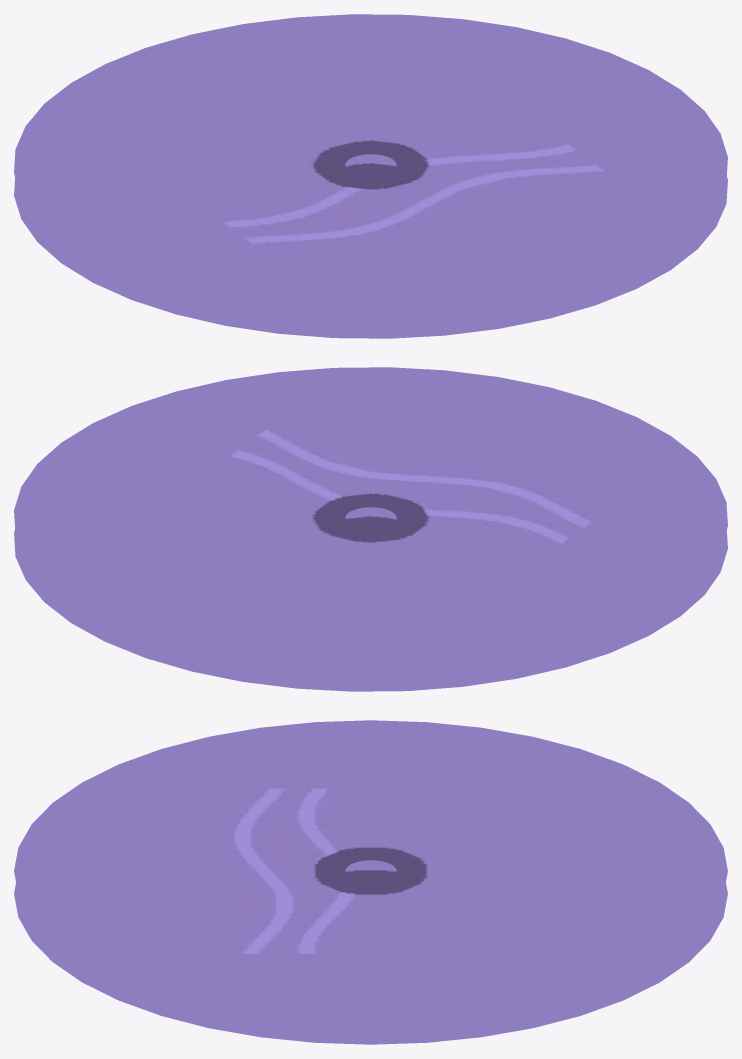
Rendered from record.glb.
3 views of the same model, one above another, from view 1: azimuth 30°, elevation 25°; view 2: azimuth 150°, elevation 25°; view 3: azimuth 270°, elevation 25° (orthographic).
Visible parts, largest first — view 1: label; view 2: label; view 3: label.
Part boxes in pixels (x1,y1,x2,y2): label: [14, 14, 727, 338]; label: [14, 367, 727, 691]; label: [14, 720, 727, 1044].
Size of what is drawn, in the model's own units: 0.1 by 0.0035 by 0.1.
Materials: 1 (1 with a texture image).
